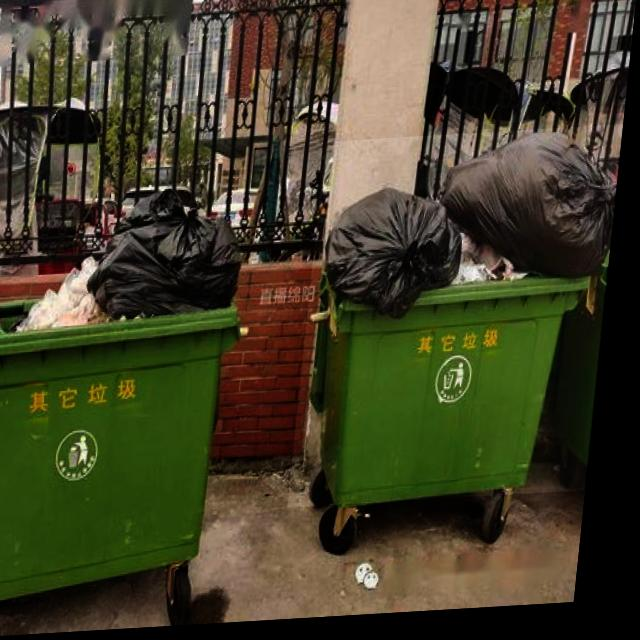overflow: (299, 133, 626, 513), (0, 186, 260, 616)
